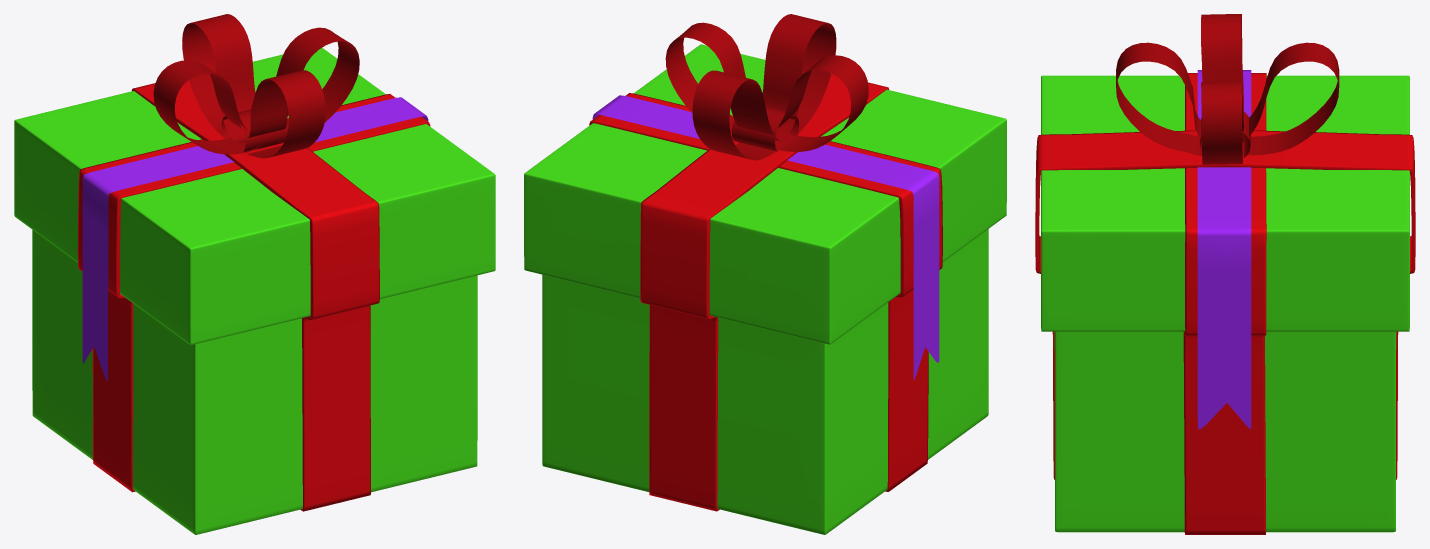
The model's file is green_gift.dae.
The picture shows the model from 3 angles, left to right: view 1: azimuth 30°, elevation 25°; view 2: azimuth 150°, elevation 25°; view 3: azimuth 270°, elevation 25°; orthographic projection. The views are drawn at different scales.
Visible parts, largest first — view 1: box, ribbon 3, ribbon 2, ribbon 4, green ribbon, ribbon 5, ribbon 1; view 2: box, ribbon 3, ribbon 2, ribbon 4, green ribbon, ribbon 5, ribbon 1; view 3: box, ribbon 2, green ribbon, ribbon 3, ribbon 4, ribbon 5.
Part boxes in pixels (x1=…): box: x1=14, y1=48, x2=495, y2=534; ribbon 3: x1=131, y1=80, x2=379, y2=511; ribbon 2: x1=77, y1=94, x2=430, y2=492; ribbon 4: x1=182, y1=14, x2=325, y2=158; green ribbon: x1=82, y1=97, x2=428, y2=381; ribbon 5: x1=153, y1=27, x2=359, y2=154; ribbon 1: x1=221, y1=109, x2=287, y2=151; box: x1=524, y1=44, x2=1006, y2=534; ribbon 3: x1=640, y1=73, x2=889, y2=511; ribbon 2: x1=589, y1=93, x2=942, y2=491; ribbon 4: x1=692, y1=14, x2=836, y2=160; green ribbon: x1=592, y1=95, x2=939, y2=380; ribbon 5: x1=665, y1=22, x2=868, y2=151; ribbon 1: x1=731, y1=107, x2=799, y2=151; box: x1=1041, y1=75, x2=1409, y2=532; ribbon 2: x1=1183, y1=73, x2=1266, y2=534; green ribbon: x1=1197, y1=70, x2=1251, y2=429; ribbon 3: x1=1035, y1=130, x2=1415, y2=479; ribbon 4: x1=1116, y1=42, x2=1339, y2=155; ribbon 5: x1=1201, y1=14, x2=1243, y2=164.
Size of the model in its own units: 2.26 by 2.23 by 2.67.
